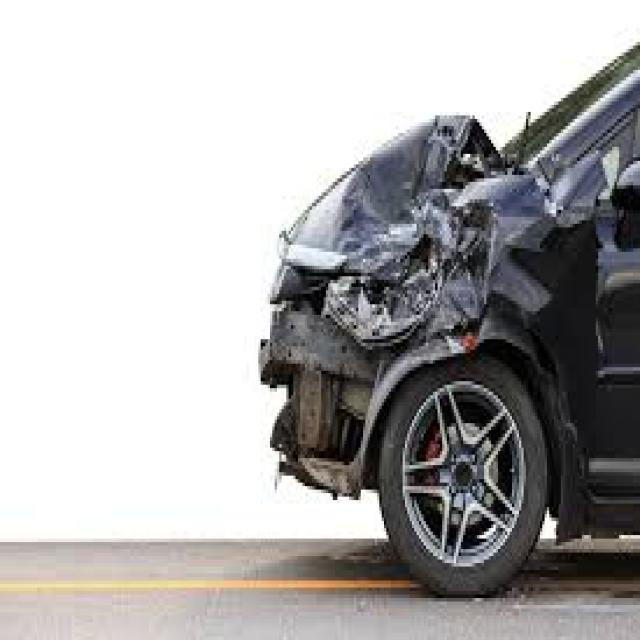accident: (215, 85, 583, 565)
